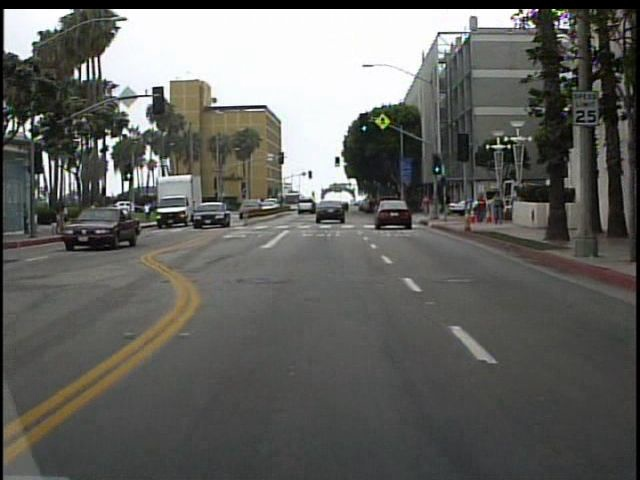person: (85, 195, 103, 237)
